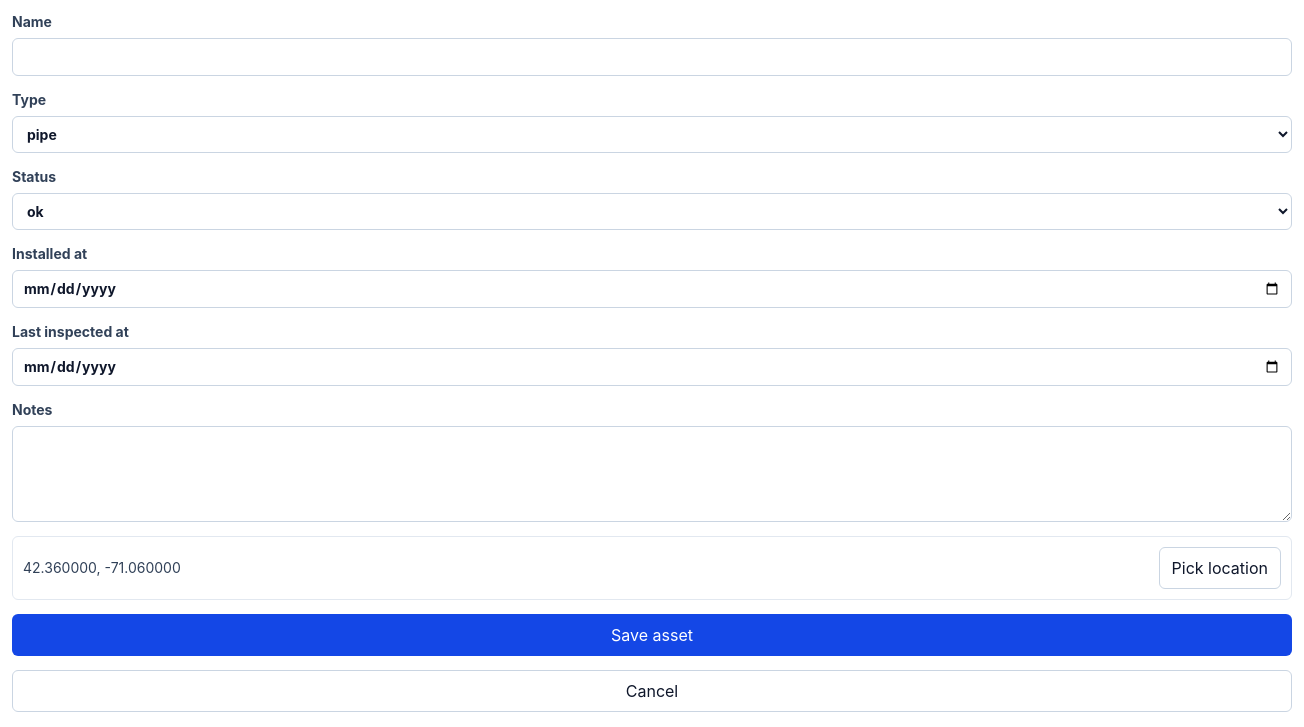
AssetForm › blocks submit when name is empty
Click the button "Save asset".
click(652, 635)  # box top-left (12, 614), bottom-right (1292, 656)
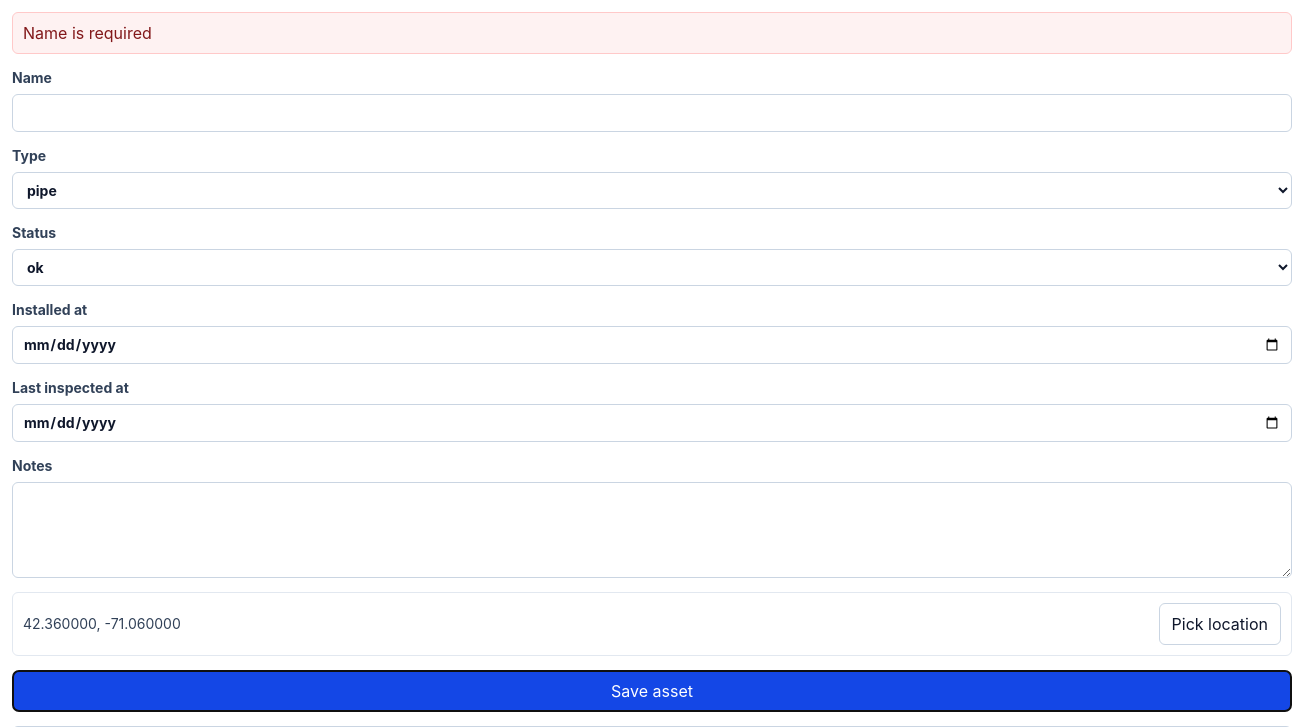
Check: the text "Name is required" is shown, box top-left (12, 12), bottom-right (1292, 54)
